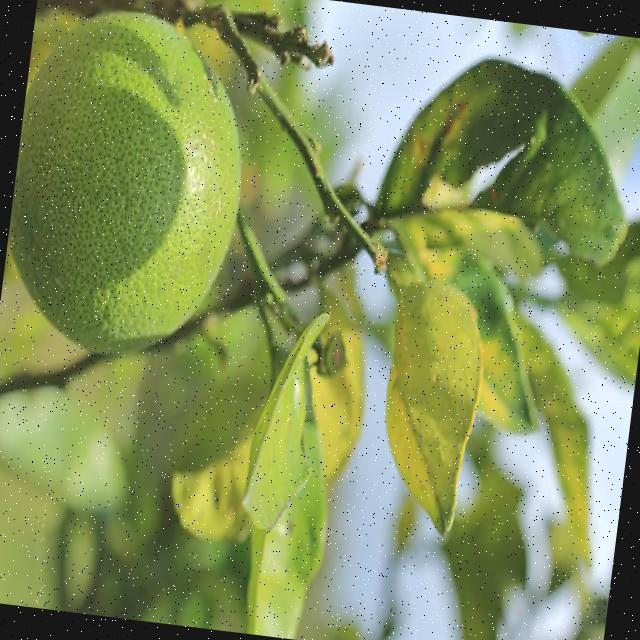Unripe: (0, 0, 261, 363)
